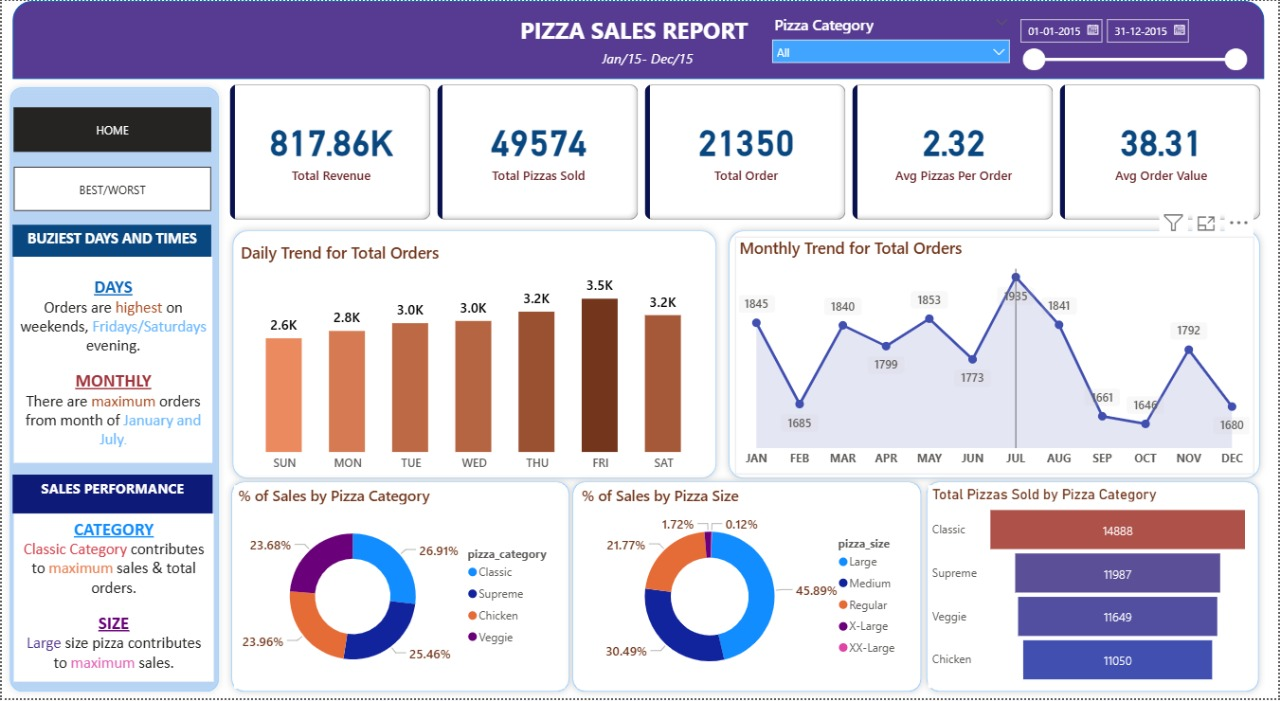

The dashboard page shown, as its layout file describes it:
{"tool":"powerbi","page":{"name":"HOME","canvas":[1500,820],"ordinal":0},"visuals":[{"type":"cardVisual","fields":{"Data":["pizza_sales_excel_file_main.Total Revenue","pizza_sales_excel_file_main.Total Pizzas Sold","pizza_sales_excel_file_main.Total Order","pizza_sales_excel_file_main.Avg Pizzas Per Order","pizza_sales_excel_file_main.Avg Order Value"]},"box":[263.2,93.3,1225.5,169.9],"z":0},{"type":"shape","box":[12.5,0,1472.1,91.9],"z":1000},{"type":"textbox","box":[604.6,11.3,291.1,51.5],"z":2000},{"type":"textbox","box":[701.1,51.5,133.5,61.1],"z":3000},{"type":"shape","box":[263.2,261.8,584.9,307.8],"z":4000},{"type":"columnChart","title":"Daily Trend for Total Orders","fields":{"Category":["pizza_sales_excel_file_main.Order Day"],"Y":["pizza_sales_excel_file_main.Total Order"]},"box":[275.7,282.7,559.9,279.9],"z":5000},{"type":"shape","box":[846.7,261.8,640.6,307.8],"z":6000},{"type":"areaChart","title":"Monthly Trend for Total Orders","fields":{"Y":["pizza_sales_excel_file_main.Total Order"],"Category":["pizza_sales_excel_file_main.Order Month"]},"box":[862.1,277.1,610,279.9],"z":7000},{"type":"shape","box":[261.8,557.1,413.6,263.2],"z":8000},{"type":"shape","box":[662.9,557.1,426.2,263.2],"z":9000},{"type":"shape","box":[1079.3,557.1,406.7,263.2],"z":10000},{"type":"donutChart","title":"% of Sales by Pizza Category","fields":{"Category":["pizza_sales_excel_file_main.pizza_category"],"Y":["pizza_sales_excel_file_main.Total Revenue"]},"box":[273,569.6,388.6,239.5],"z":11000},{"type":"donutChart","title":"% of Sales by Pizza Size","fields":{"Y":["pizza_sales_excel_file_main.Total Revenue"],"Category":["pizza_sales_excel_file_main.pizza_size"]},"box":[676.8,569.6,391.3,239.5],"z":12000},{"type":"funnel","title":"Total Pizzas Sold by Pizza Category","fields":{"Category":["pizza_sales_excel_file_main.pizza_category"],"Y":["pizza_sales_excel_file_main.Total Pizzas Sold"]},"box":[1088.6,570,382.9,238.6],"z":13000},{"type":"shape","box":[1.4,93.3,261.8,727],"z":14000},{"type":"textbox","box":[12.5,263.2,234,37.6],"z":15000},{"type":"textbox","box":[13.9,300.8,234,242.3],"z":16000},{"type":"textbox","box":[12.5,557.1,235.4,46],"z":17000},{"type":"textbox","box":[13.9,603,235.4,197.8],"z":18000},{"type":"slicer","fields":{"Values":["pizza_sales_excel_file_main.pizza_category"]},"box":[895.5,11.1,299.4,71],"z":19000},{"type":"slicer","fields":{"Values":["pizza_sales_excel_file_main.order_date"]},"box":[1185.2,11.1,286.9,80.8],"z":20000},{"type":"pageNavigator","box":[13.9,125.3,232.6,52.9],"z":20001},{"type":"pageNavigator","box":[13.9,195,232.6,52.9],"z":20002}]}

Visuals, with their boxes in screenshot pixels (x1, y1, x2, y2), scaled from the page's 1500x820 canvas onto the 1280x701 screenshot:
cardVisual - pizza_sales_excel_file_main.Total Revenue x pizza_sales_excel_file_main.Total Pizzas Sold: [x1=225, y1=80, x2=1270, y2=225]
shape: [x1=11, y1=0, x2=1267, y2=79]
textbox: [x1=516, y1=10, x2=764, y2=54]
textbox: [x1=598, y1=44, x2=712, y2=96]
shape: [x1=225, y1=224, x2=724, y2=487]
"Daily Trend for Total Orders" columnChart: [x1=235, y1=242, x2=713, y2=481]
shape: [x1=723, y1=224, x2=1269, y2=487]
"Monthly Trend for Total Orders" areaChart: [x1=736, y1=237, x2=1256, y2=476]
shape: [x1=223, y1=476, x2=576, y2=700]
shape: [x1=566, y1=476, x2=929, y2=700]
shape: [x1=921, y1=476, x2=1268, y2=700]
"% of Sales by Pizza Category" donutChart: [x1=233, y1=487, x2=565, y2=692]
"% of Sales by Pizza Size" donutChart: [x1=578, y1=487, x2=911, y2=692]
"Total Pizzas Sold by Pizza Category" funnel: [x1=929, y1=487, x2=1256, y2=691]
shape: [x1=1, y1=80, x2=225, y2=700]
textbox: [x1=11, y1=225, x2=210, y2=257]
textbox: [x1=12, y1=257, x2=212, y2=464]
textbox: [x1=11, y1=476, x2=212, y2=516]
textbox: [x1=12, y1=515, x2=213, y2=685]
slicer - pizza_sales_excel_file_main.pizza_category: [x1=764, y1=9, x2=1020, y2=70]
slicer - pizza_sales_excel_file_main.order_date: [x1=1011, y1=9, x2=1256, y2=79]
pageNavigator: [x1=12, y1=107, x2=210, y2=152]
pageNavigator: [x1=12, y1=167, x2=210, y2=212]
